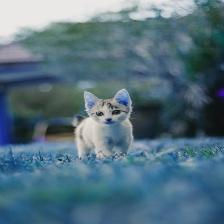kedo: (76, 91, 132, 157)
